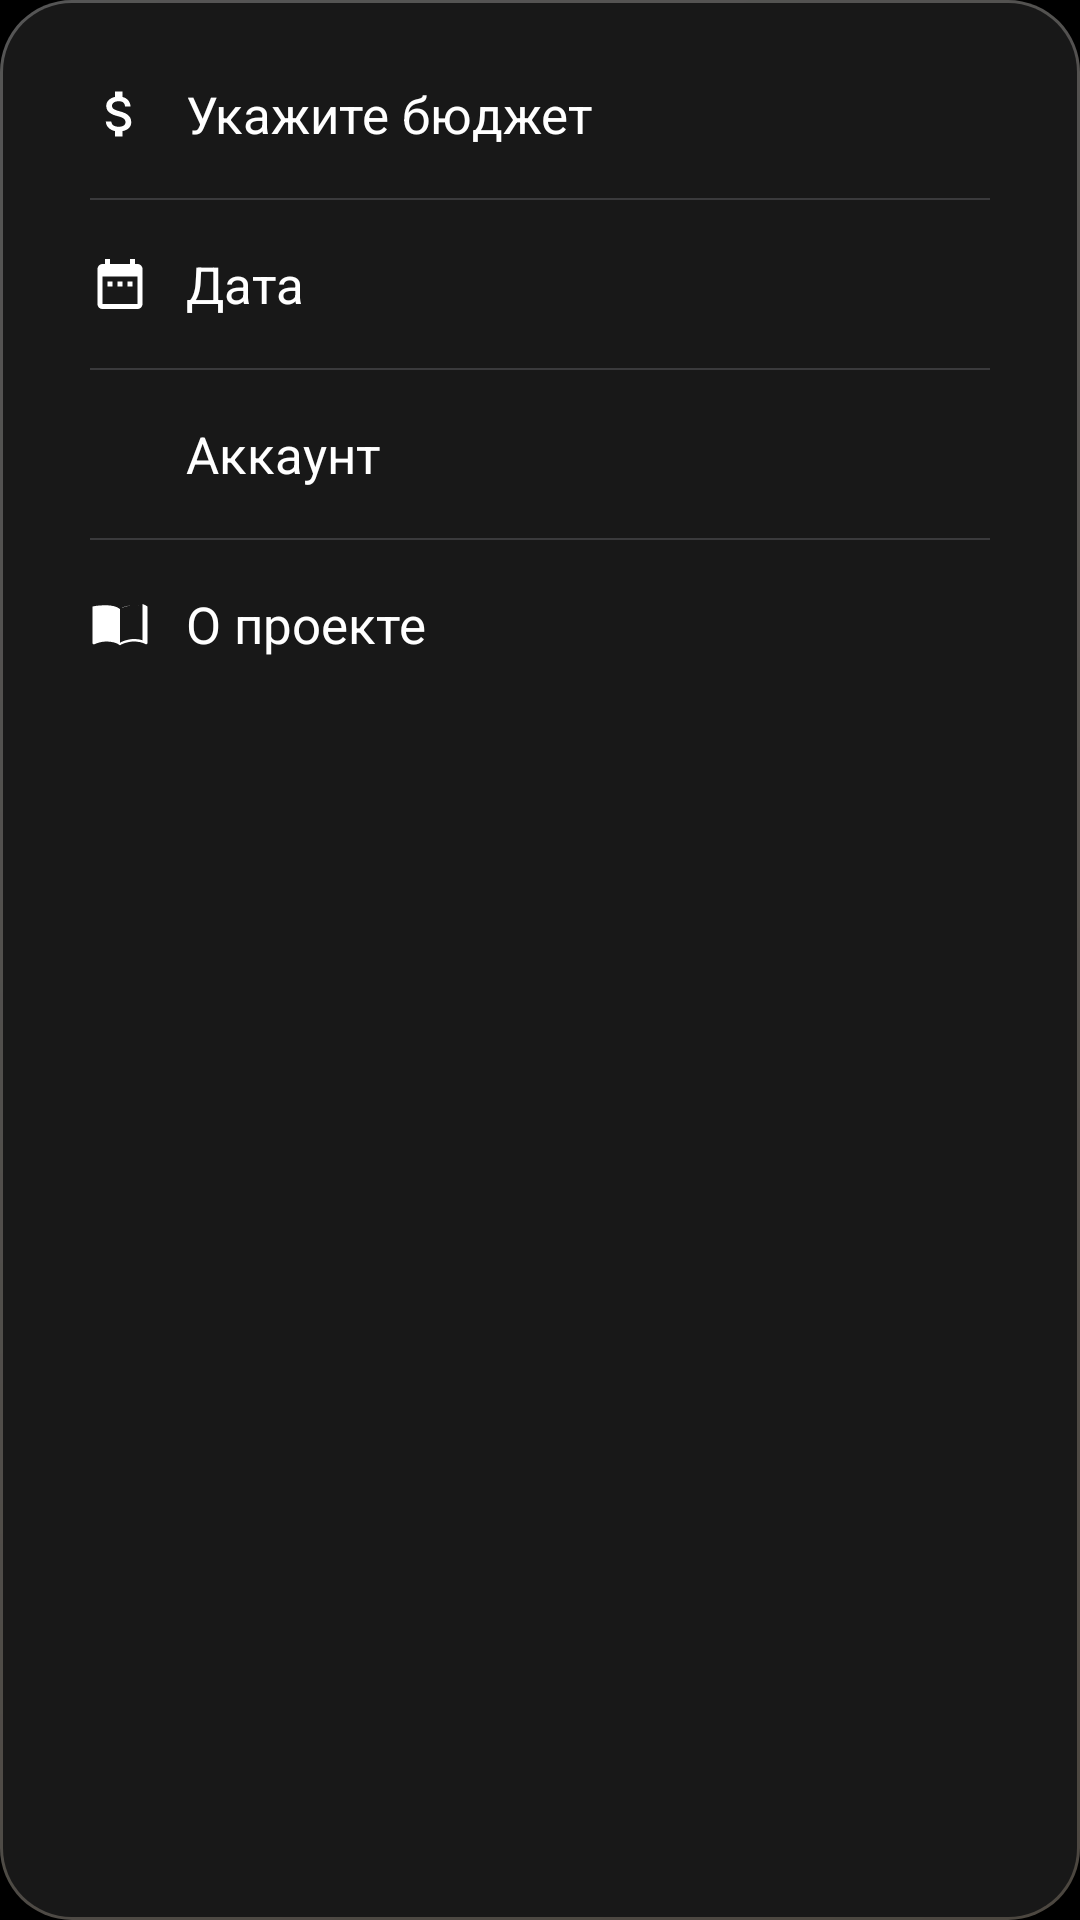

Named icons in this screenshot (1080 x 1920) and their bounding boxes, (x1, y1, x2, y2):
budget: (105, 91, 132, 137)
date menu: (97, 259, 143, 309)
